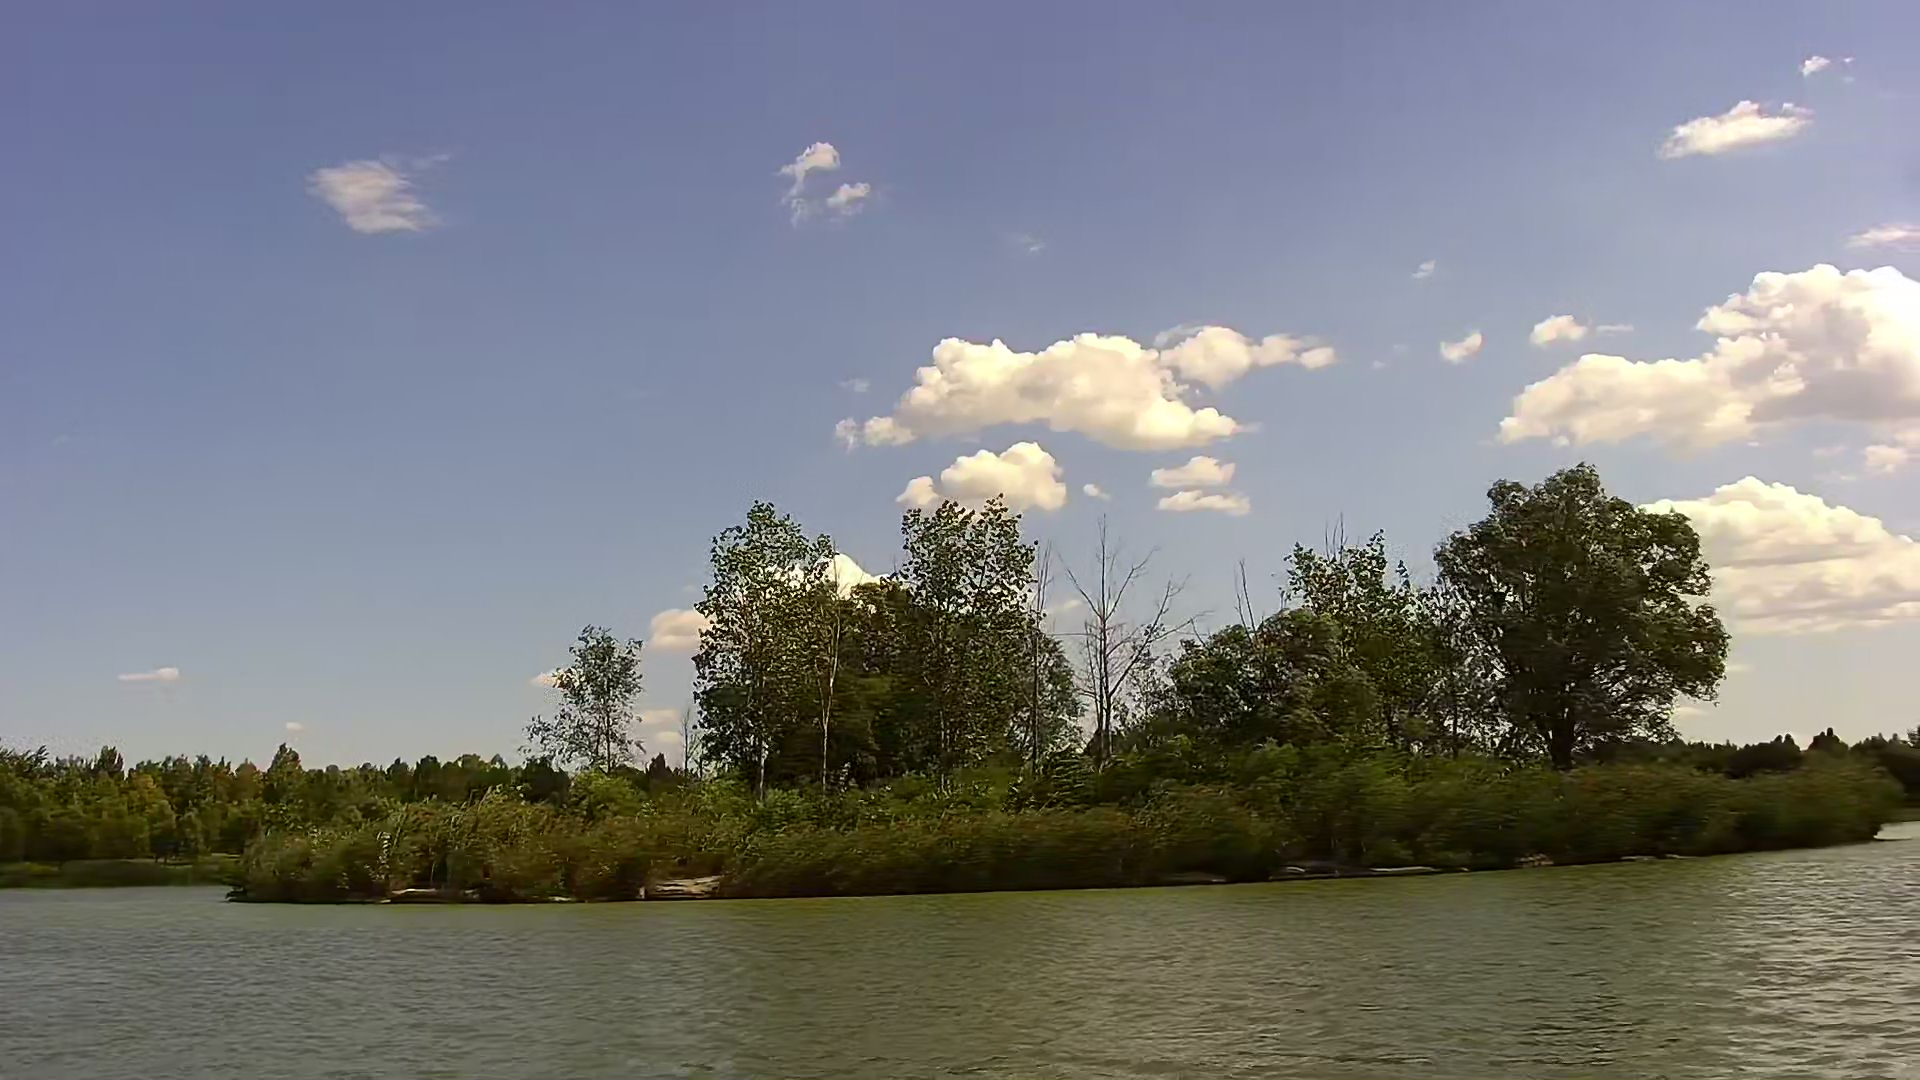rock: (644, 872, 724, 901), (388, 887, 462, 907)
